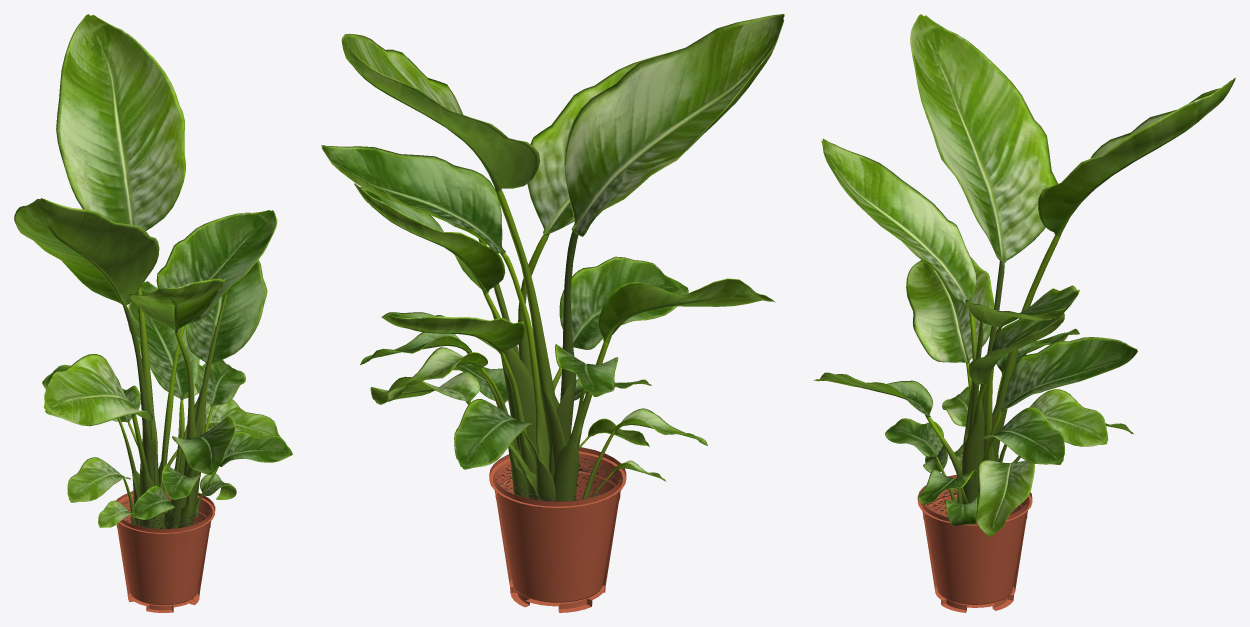
The model's file is strelitzia_roslina_doniczkowa_10426719.glb.
The picture shows the model from 3 angles, left to right: view 1: azimuth 30°, elevation 25°; view 2: azimuth 150°, elevation 25°; view 3: azimuth 270°, elevation 25°; orthographic projection. The views are drawn at different scales.
Visible parts, largest first — view 1: strelitzia_roslina_doniczkowa_10426719; view 2: strelitzia_roslina_doniczkowa_10426719; view 3: strelitzia_roslina_doniczkowa_10426719.
Boxes of the visible parts, left/top/right/bottom form: strelitzia_roslina_doniczkowa_10426719: left=14, top=14, right=292, bottom=612; strelitzia_roslina_doniczkowa_10426719: left=321, top=14, right=784, bottom=612; strelitzia_roslina_doniczkowa_10426719: left=813, top=14, right=1235, bottom=612.
Size of the model in its own units: 0.5778 by 0.9175 by 0.6485.
Materials: 1 (1 with a texture image).
